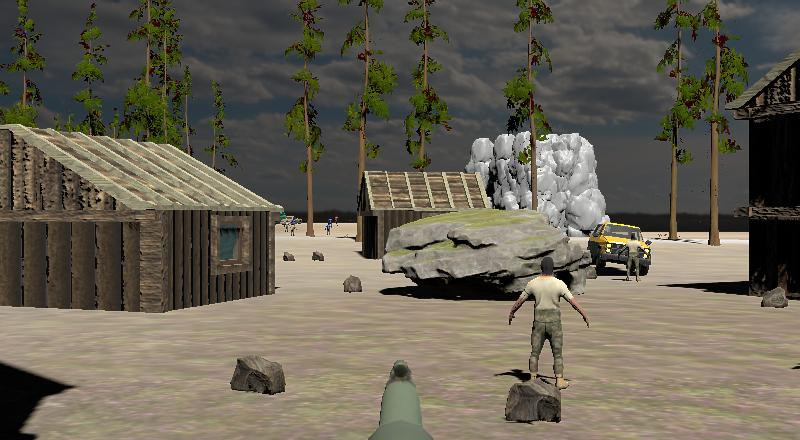House: (0, 125, 283, 314), (732, 41, 800, 303), (357, 171, 488, 257)
Human: (507, 255, 591, 391), (622, 231, 644, 283)
car: (586, 221, 654, 276)
